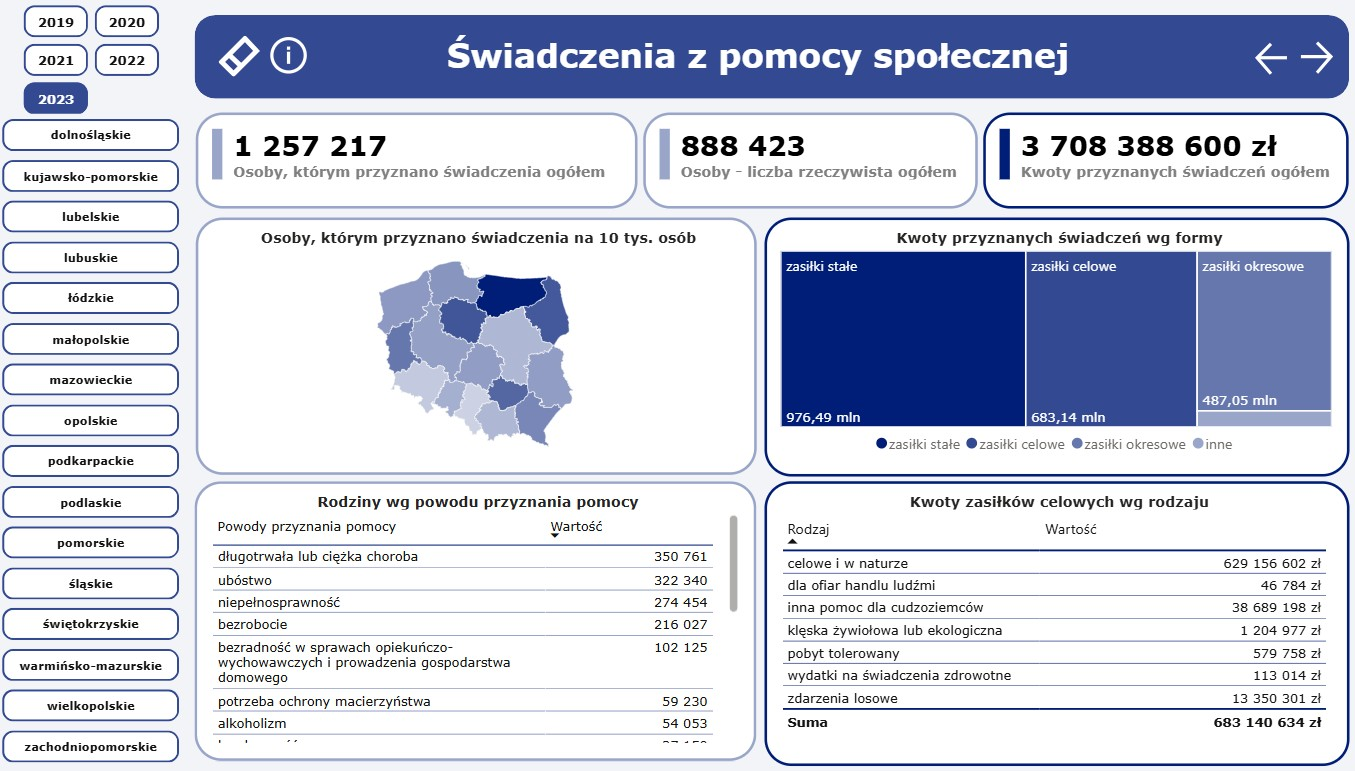

The dashboard page shown, as its layout file describes it:
{"tool":"powerbi","page":{"name":"Świadczenia z pomocy społecznej","canvas":[1280,720],"ordinal":1},"visuals":[{"type":"group","id":"g1","title":"Grupa 1","box":[183.6,13.6,1077.3,78.2],"z":0},{"type":"advancedSlicerVisual","fields":{"Values":["Rok.Rok"]},"box":[0,0,176.2,112.3],"z":1000},{"type":"shape","box":[183.6,13.6,1077,78],"z":1000,"group":"g1"},{"type":"textbox","title":"Świadczenia z pomocy społecznej","box":[225.1,32.8,967.3,39.1],"z":2000,"group":"g1"},{"type":"advancedSlicerVisual","fields":{"Values":["Wojewodztwa.Nazwa"]},"box":[0,106.6,175.5,613.4],"z":2000},{"type":"actionButton","box":[250,29.5,46.2,44.9],"z":3000},{"type":"actionButton","box":[202.6,28.2,46.2,48.7],"z":4000},{"type":"multiRowCard","fields":{"Values":["Sum(2!ŚwiadczeniaPSOsobyKwoty.osoby, którym decyzją przyznano świadczenia według głównych form pomocy)"]},"box":[185.4,104.8,411.9,89.6],"z":5000},{"type":"tableEx","title":"Rodziny wg powodu przyznania pomocy","fields":{"Values":["2PowodyPomocy.Powody przyznania pomocy","Sum(2!RodzinyPomocWgPrzyczyn.Wartosc)"]},"box":[184.5,448.7,523.9,260.6],"z":6000},{"type":"multiRowCard","fields":{"Values":["Sum(2!ŚwiadczeniaPSOsobyKwoty.kwoty świadczeń zł)"]},"box":[919.7,104.8,341.2,89.6],"z":7000},{"type":"treemap","title":"Kwoty przyznanych świadczeń wg formy","fields":{"Group":["2RodzajPomocy.Rodzaj Hierarchia.Rodzaj","2RodzajPomocy.Rodzaj Hierarchia.Kategoria_nazwa"],"Values":["Sum(2!ŚwiadczeniaPSOsobyKwoty.kwoty świadczeń zł)"]},"box":[715.7,202.9,545.7,241.4],"z":8000},{"type":"shapeMap","title":"Osoby, którym przyznano świadczenia na 10 tys. osób","fields":{"Category":["0Wojewodztwa.Nazwa"],"Value":["Sum(2!ŚwiadczeniaPSOsNa10Tys.pomoc ogółem)"]},"box":[185.7,202.9,522.9,240],"z":9000},{"type":"multiRowCard","fields":{"Values":["Sum(2!ŚwiadczeniaPSRzeczOsoby.osoby, którym decyzją przyznano świadczenia według głównych form pomocy)"]},"box":[603,104.8,312,89.6],"z":10000},{"type":"tableEx","title":"Kwoty zasiłków celowych wg rodzaju","fields":{"Values":["2RodzajZasCel.Nazwa","Sum(2!ZasiłkiCelowe.kwoty świadczeń przyznanych decyzją)"]},"box":[715.5,448.7,545.4,266],"z":11000},{"type":"actionButton","box":[1210,34.2,41.7,40],"z":12000},{"type":"actionButton","box":[1169.2,34.6,41,39.7],"z":13000}]}

Visuals, with their boxes in screenshot pixels (x1, y1, x2, y2), scaled from the page's 1280x720 canvas onto the 1355x771 screenshot:
"Grupa 1" group: {"x1": 194, "y1": 15, "x2": 1335, "y2": 98}
advancedSlicerVisual - Rok.Rok: {"x1": 0, "y1": 0, "x2": 187, "y2": 120}
shape: {"x1": 194, "y1": 15, "x2": 1334, "y2": 98}
"Świadczenia z pomocy społecznej" textbox: {"x1": 238, "y1": 35, "x2": 1262, "y2": 77}
advancedSlicerVisual - Wojewodztwa.Nazwa: {"x1": 0, "y1": 114, "x2": 186, "y2": 770}
actionButton: {"x1": 265, "y1": 32, "x2": 314, "y2": 80}
actionButton: {"x1": 214, "y1": 30, "x2": 263, "y2": 82}
multiRowCard - Sum(2!ŚwiadczeniaPSOsobyKwoty.osoby, którym decyzją przyznano świadczenia według głównych form pomocy): {"x1": 196, "y1": 112, "x2": 632, "y2": 208}
"Rodziny wg powodu przyznania pomocy" tableEx: {"x1": 195, "y1": 480, "x2": 750, "y2": 760}
multiRowCard - Sum(2!ŚwiadczeniaPSOsobyKwoty.kwoty świadczeń zł): {"x1": 974, "y1": 112, "x2": 1335, "y2": 208}
"Kwoty przyznanych świadczeń wg formy" treemap: {"x1": 758, "y1": 217, "x2": 1335, "y2": 476}
"Osoby, którym przyznano świadczenia na 10 tys. osób" shapeMap: {"x1": 197, "y1": 217, "x2": 750, "y2": 474}
multiRowCard - Sum(2!ŚwiadczeniaPSRzeczOsoby.osoby, którym decyzją przyznano świadczenia według głównych form pomocy): {"x1": 638, "y1": 112, "x2": 969, "y2": 208}
"Kwoty zasiłków celowych wg rodzaju" tableEx: {"x1": 757, "y1": 480, "x2": 1335, "y2": 765}
actionButton: {"x1": 1281, "y1": 37, "x2": 1325, "y2": 79}
actionButton: {"x1": 1238, "y1": 37, "x2": 1281, "y2": 80}
